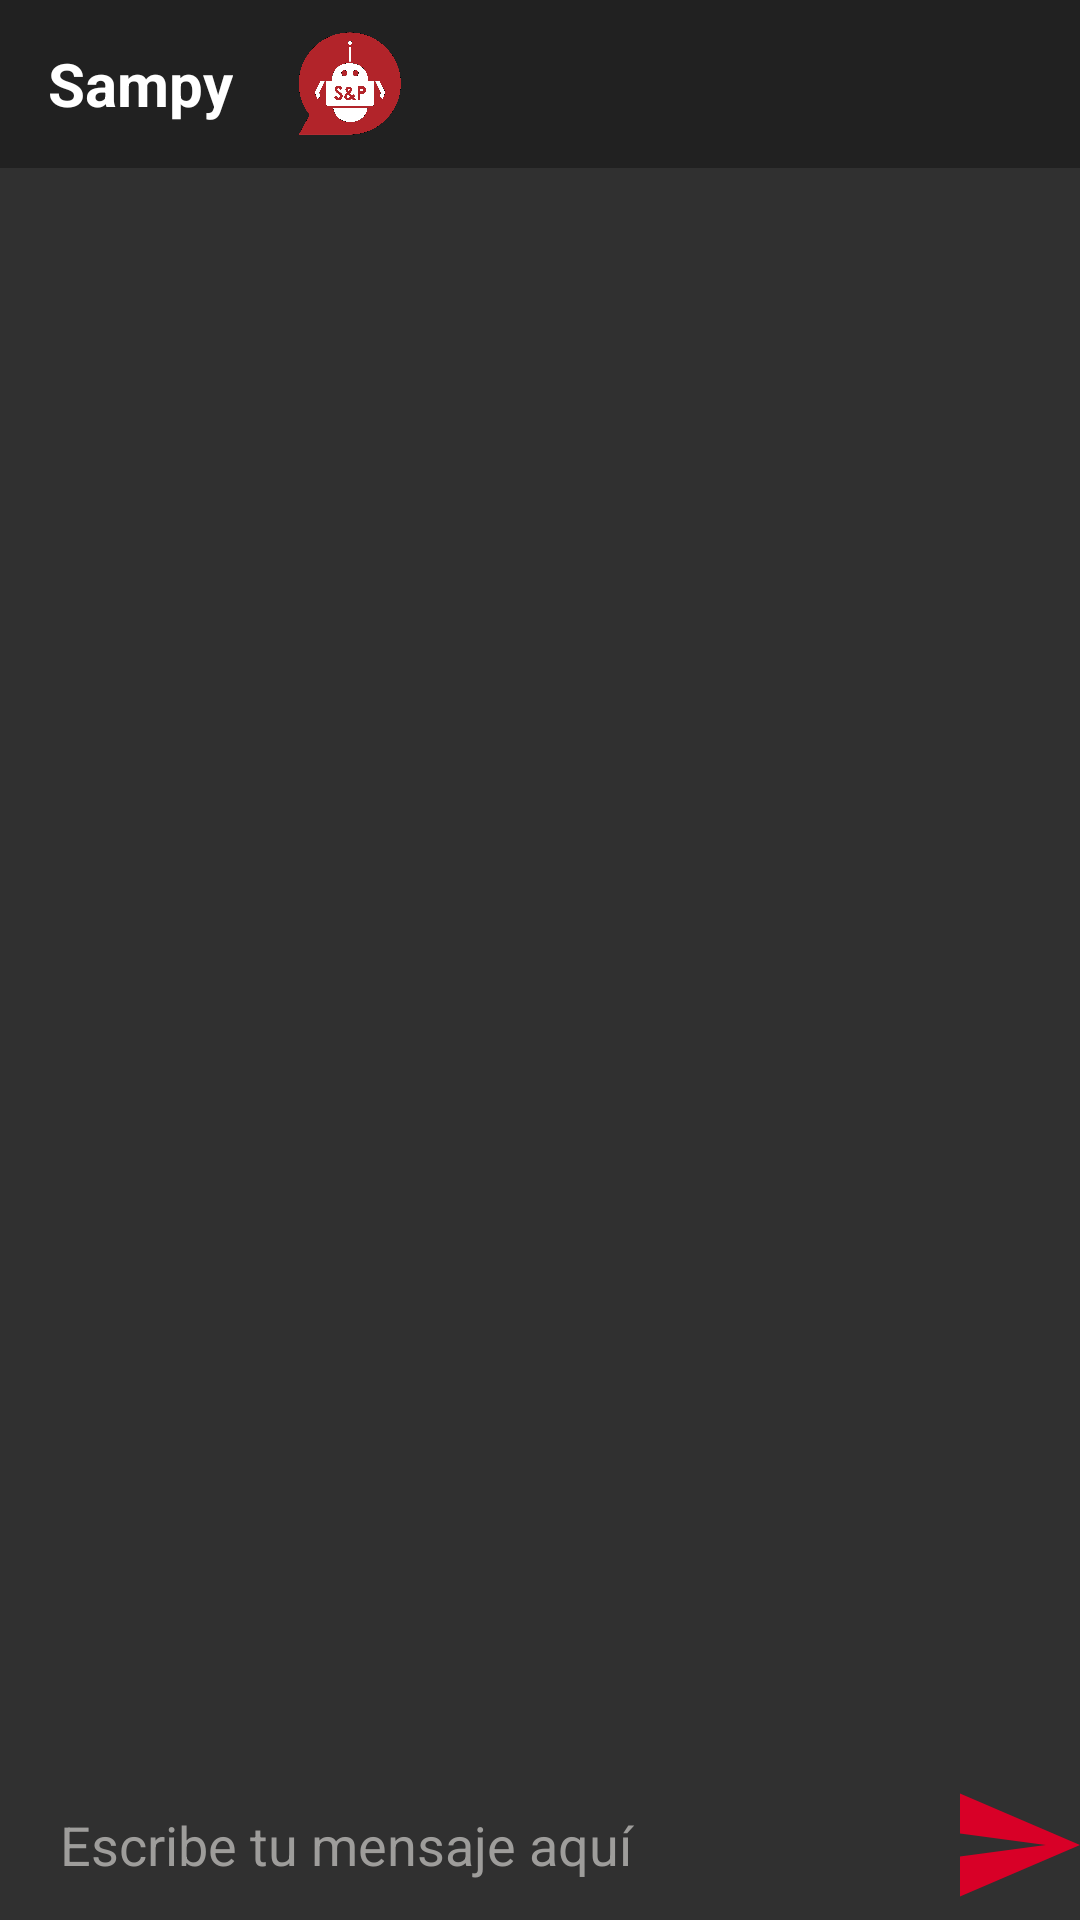

Icons on this 1080 × 1920 Android screen, each with the point to tap as point (x, y):
bot: point (350, 83)
send: point (1020, 1845)
